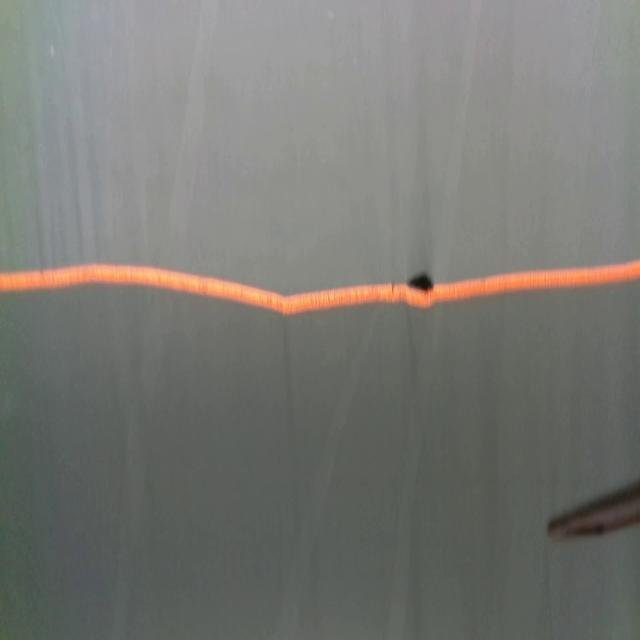hole: (407, 271, 436, 295)
